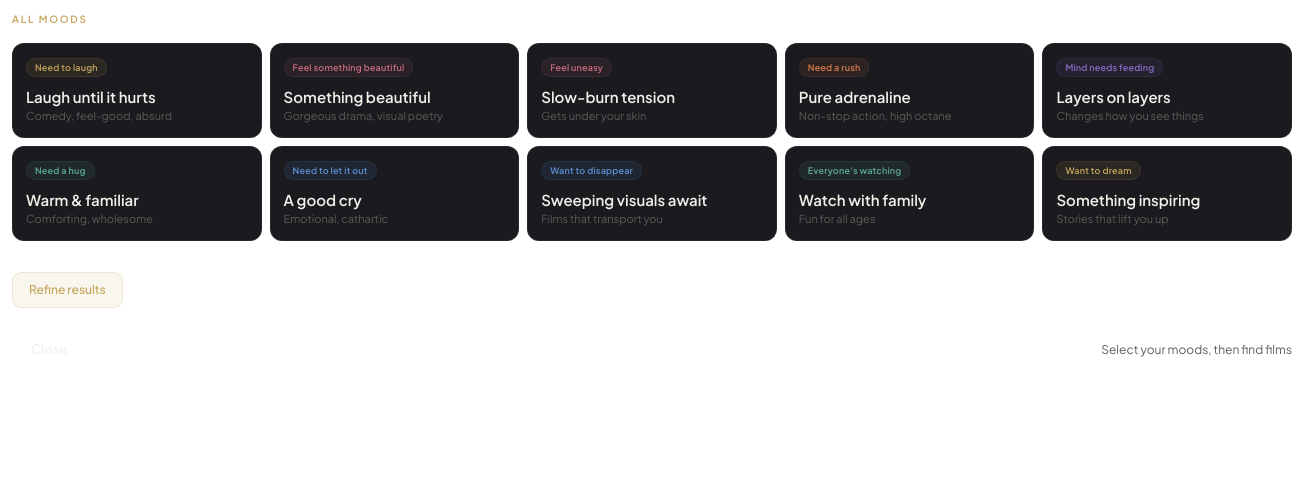
Test: MoodPanel › expands the refinement section when "Refine results" is clicked
Click the button "Refine results" at (67, 290), box [12,272,123,308]
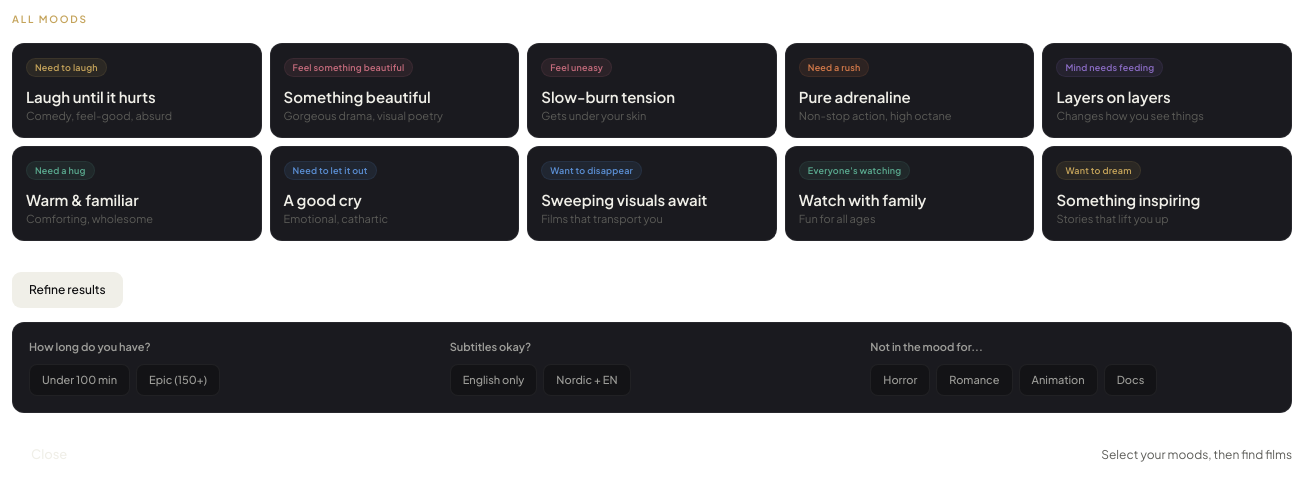
Result: the text "How long do you have?" is shown at [29,340,151,353]
Result: the text "Subtitles okay?" is shown at [450,340,531,353]
